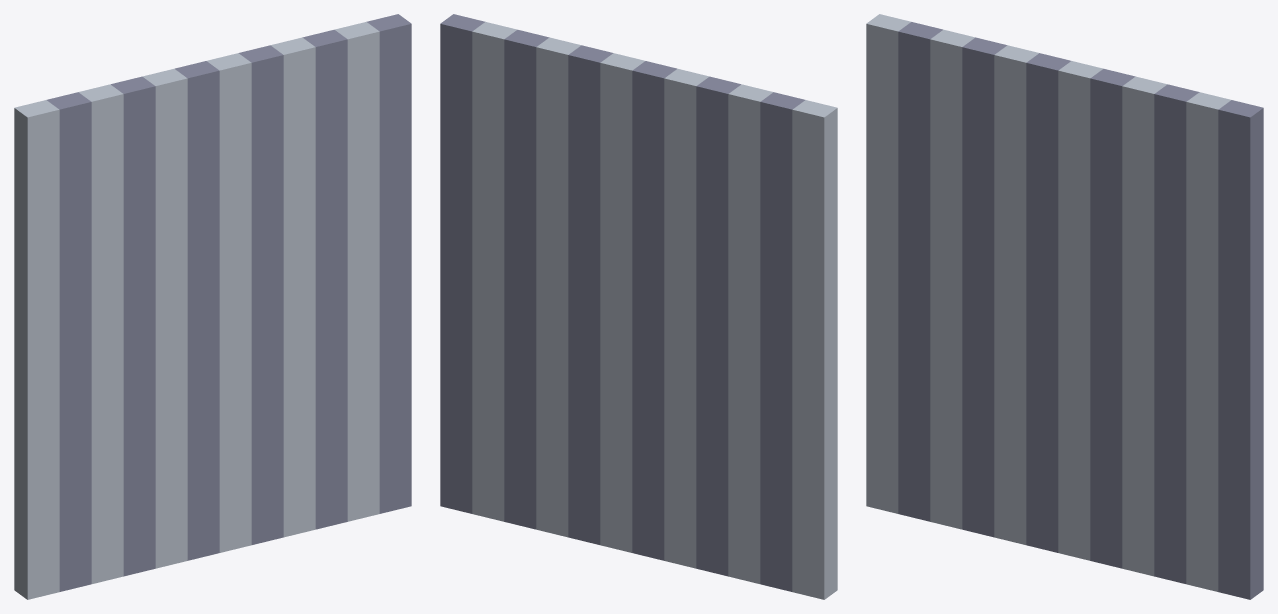
File: Wall1_C8_16.fbx
3 renders of one model, left to right at view 1: azimuth 30°, elevation 25°; view 2: azimuth 150°, elevation 25°; view 3: azimuth 330°, elevation 25°, orthographic.
Parts seen in each view (by area): view 1: Wall1_C8_16; view 2: Wall1_C8_16; view 3: Wall1_C8_16.
Boxes of the visible parts, left/top/right/bottom form: Wall1_C8_16: left=14, top=14, right=411, bottom=599; Wall1_C8_16: left=440, top=14, right=837, bottom=599; Wall1_C8_16: left=866, top=14, right=1263, bottom=599.
Size of the model in its own units: 250 by 300 by 15.
